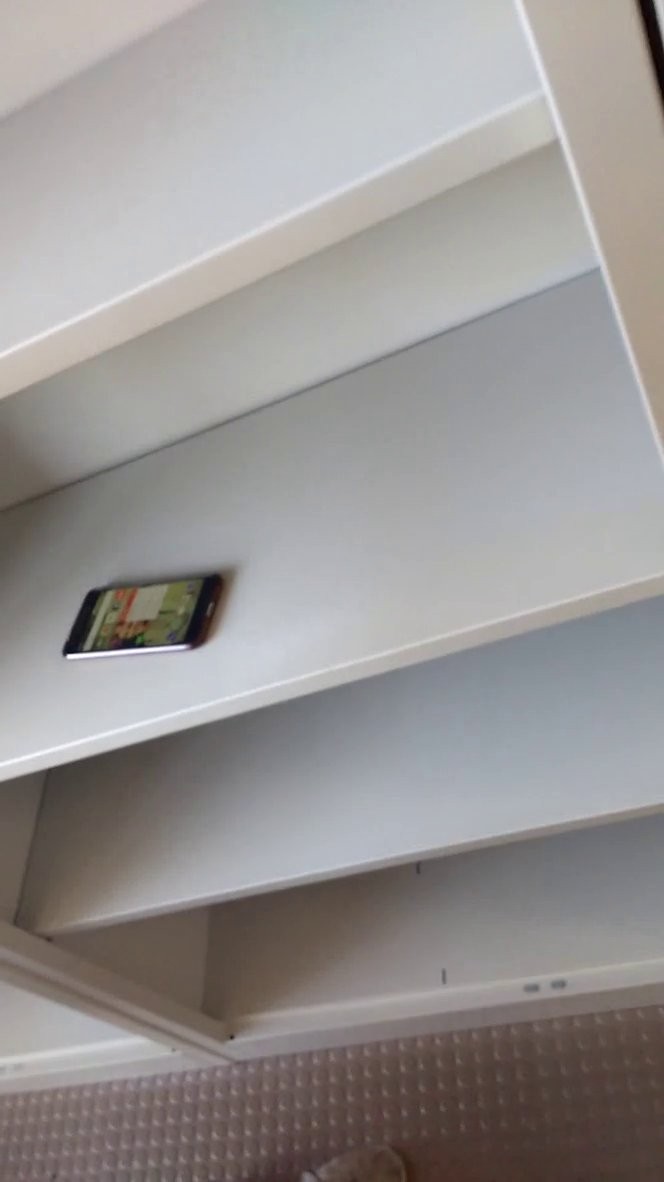phone: (53, 561, 234, 666)
